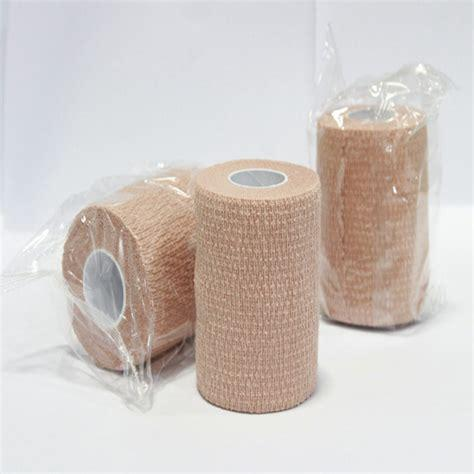gauze: (151, 139, 343, 440), (67, 120, 278, 383), (283, 69, 449, 336)
